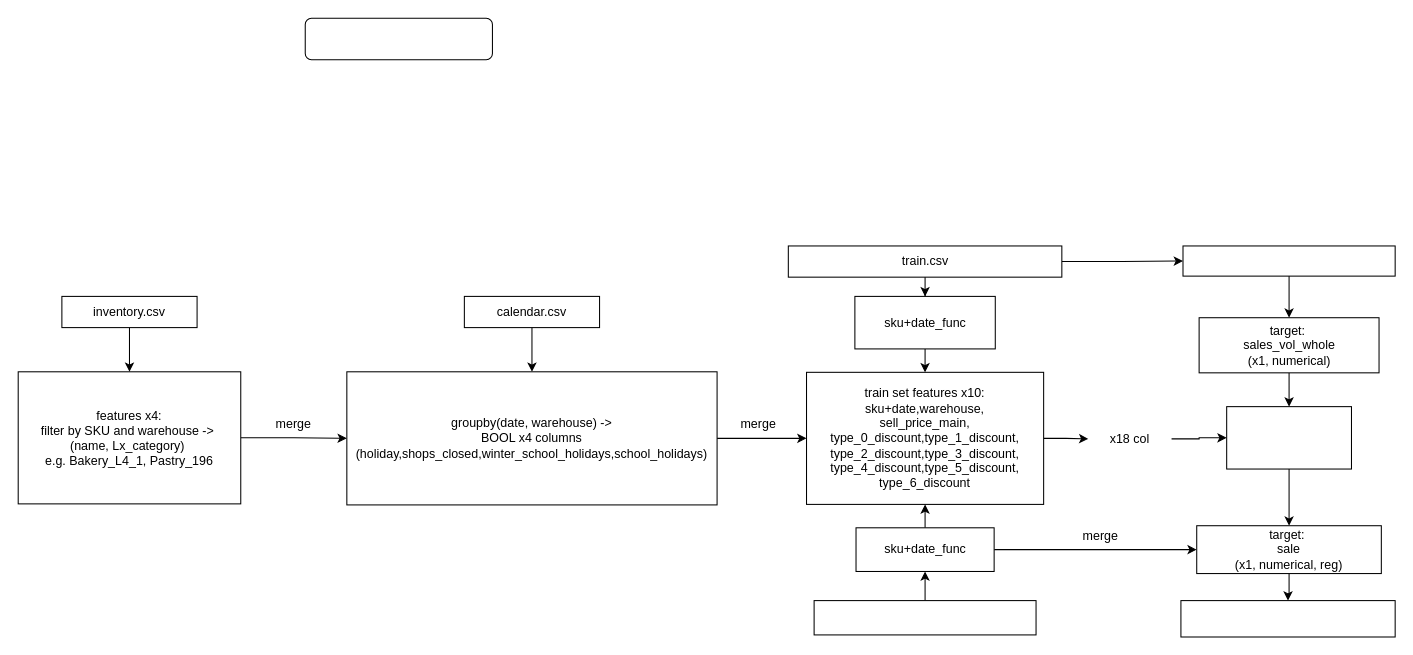
Some shapes in this 1413 by 655 pixel diagram are drawn without their labels. Each missing label, with the centre of its shape:
"DQN Torch Model" goes at (x=398, y=38).
"model" goes at (x=1288, y=437).
"sales_vol_make_whole_func" goes at (x=1288, y=260).
"solutions.csv (id, sales_hat,)" goes at (x=1287, y=618).
"test.csv" goes at (x=924, y=617).
